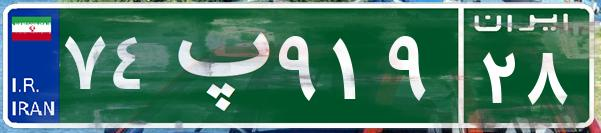1: (330, 28, 385, 110)
2: (475, 38, 525, 113)
4: (110, 28, 158, 105)
7: (57, 26, 110, 107)
8: (525, 38, 570, 115)
9: (385, 28, 445, 110), (273, 28, 330, 110)
پ: (158, 15, 273, 115)
